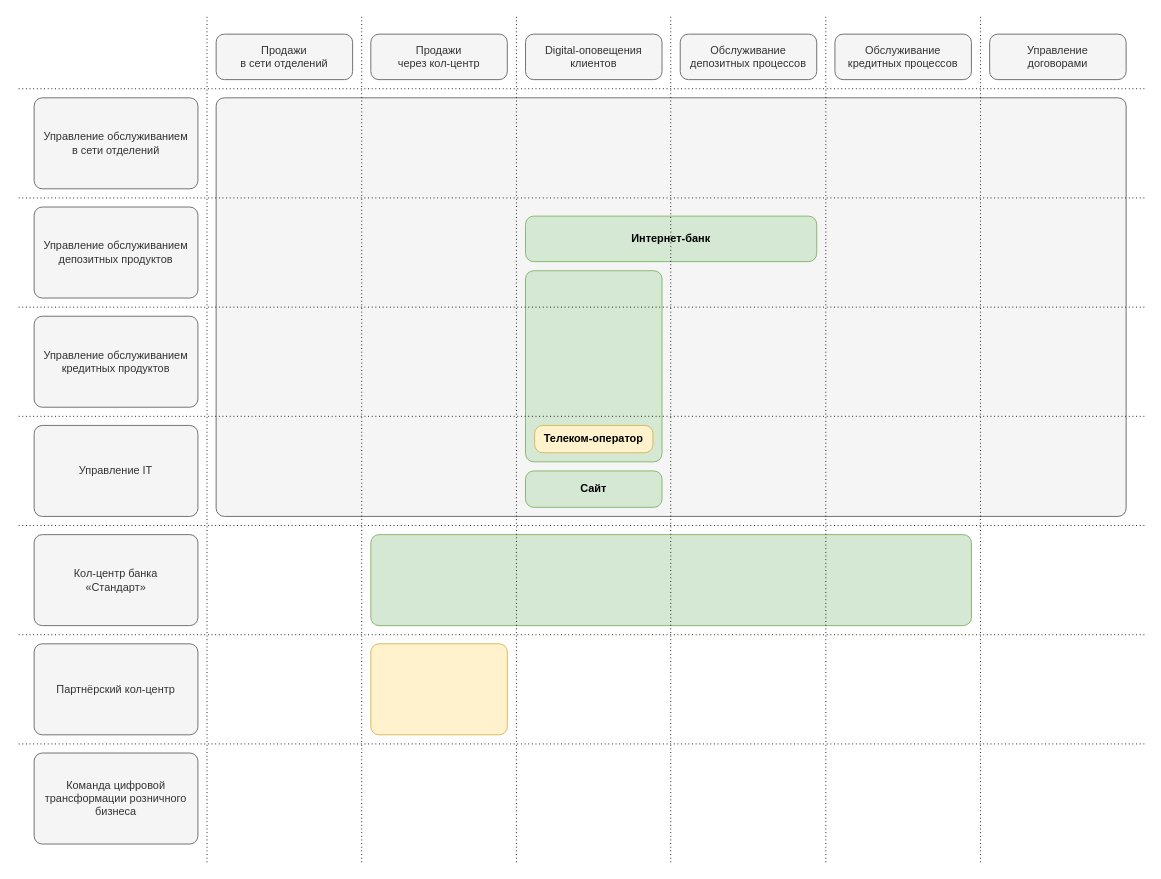
This 1161x879 diagram has some shape labels left out. The shapes that lost their labels are listed below. From the top down, each one's box as (x1, y1, x2, y2) in pixels, then its label:
(215, 97, 1126, 516): Автоматизированная банковская система (АБС)
(525, 270, 662, 462): СМС-шлюз телеком-оператора
(370, 534, 971, 626): Система кол-центра
(370, 643, 507, 735): Система партнёрского кол-центра
